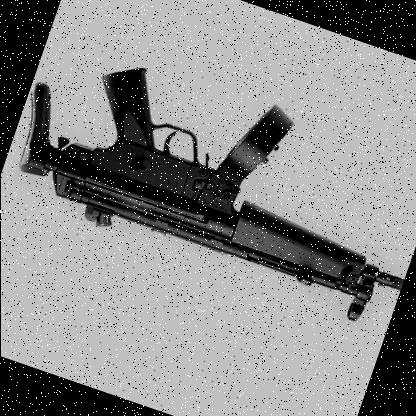rifle: (0, 35, 416, 350)
